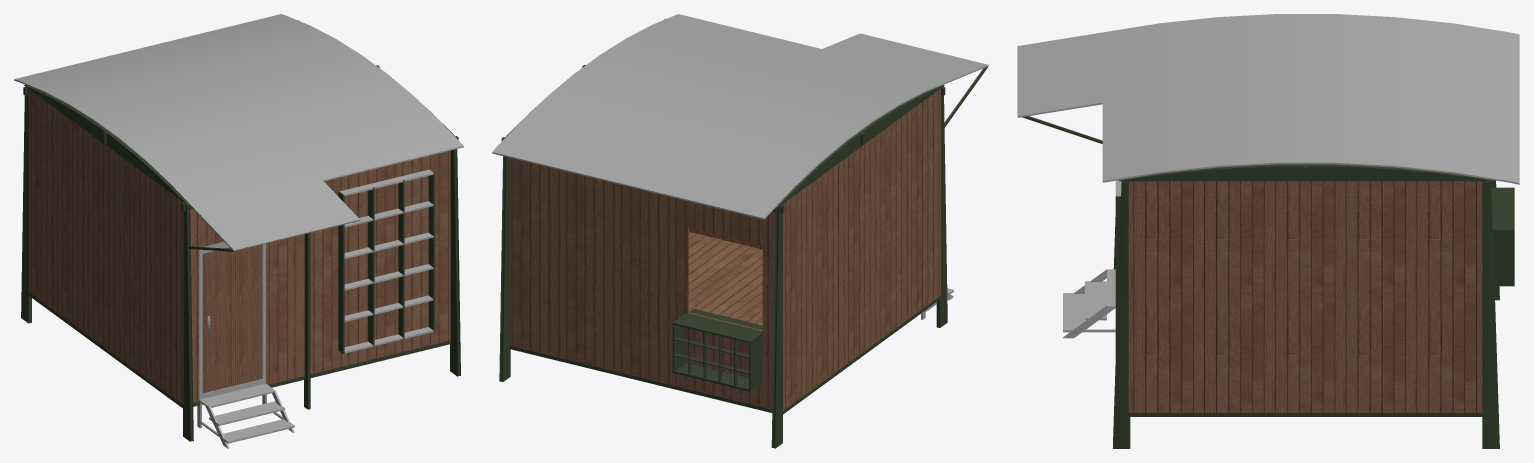
Rendered from 小屋带贴图.fbx.
3 renders of one model, left to right at view 1: azimuth 30°, elevation 25°; view 2: azimuth 150°, elevation 25°; view 3: azimuth 270°, elevation 25°, orthographic. The views are drawn at different scales.
Visible parts, largest first — view 1: Box013, Box012, Box014, Box037, Box002, Box029, Box032, Box009, Box026, Box017, Box003, Box018 (+3 smaller); view 2: Box013, Box014, Box012, Box002, Box001, Box009, Box027, Box036, Box003, Box033, Box034, Box035 (+1 smaller); view 3: Box012, Box013, Box002, Box009, Box004, Box036, Box020, Box019, Box027, Box029, Box023.
Part boxes in pixels (<box>): Box013: <box>14,14,463,251</box>; Box012: <box>28,89,183,405</box>; Box014: <box>190,150,450,402</box>; Box037: <box>202,245,262,393</box>; Box002: <box>21,86,460,441</box>; Box029: <box>338,169,434,353</box>; Box032: <box>339,169,433,353</box>; Box009: <box>24,85,458,205</box>; Box026: <box>304,233,310,409</box>; Box017: <box>199,244,265,394</box>; Box003: <box>193,340,450,406</box>; Box018: <box>199,383,275,408</box>; Box013: <box>492,14,988,219</box>; Box014: <box>510,158,775,408</box>; Box012: <box>783,88,940,410</box>; Box002: <box>499,86,947,448</box>; Box001: <box>689,231,762,325</box>; Box009: <box>502,85,944,207</box>; Box027: <box>674,309,762,342</box>; Box036: <box>672,314,762,391</box>; Box003: <box>509,345,772,412</box>; Box033: <box>673,321,750,390</box>; Box034: <box>673,324,750,387</box>; Box035: <box>674,363,748,391</box>; Box012: <box>1128,164,1482,412</box>; Box013: <box>1017,14,1519,184</box>; Box002: <box>1113,180,1499,448</box>; Box009: <box>1119,164,1493,181</box>; Box004: <box>1130,413,1484,416</box>; Box036: <box>1491,187,1514,286</box>; Box020: <box>1063,293,1084,332</box>; Box019: <box>1085,281,1106,320</box>; Box027: <box>1491,188,1509,229</box>; Box029: <box>1115,196,1120,355</box>; Box023: <box>1063,269,1114,338</box>.
Size of the model in its own units: 162 by 141 by 225.
3 materials, 1 textured.
